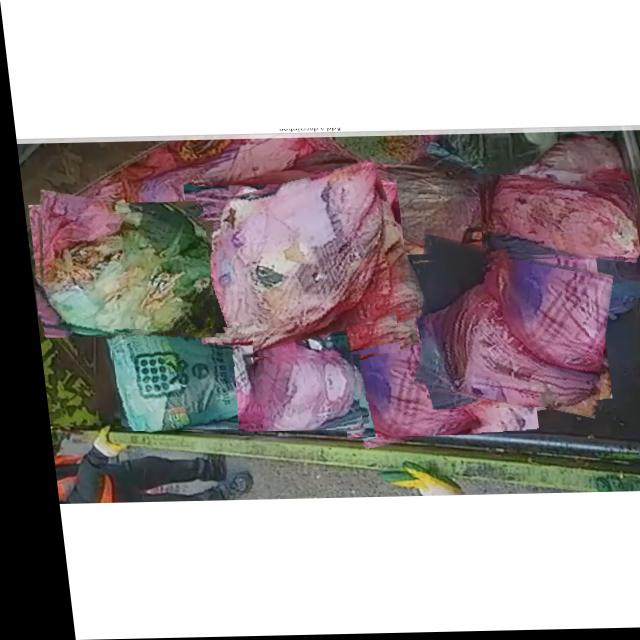general_trashbag: (32, 210, 203, 336), (103, 331, 240, 431)
other_trashbag: (198, 163, 378, 358), (409, 256, 589, 409), (334, 306, 520, 438), (479, 178, 630, 260), (237, 340, 346, 432)
